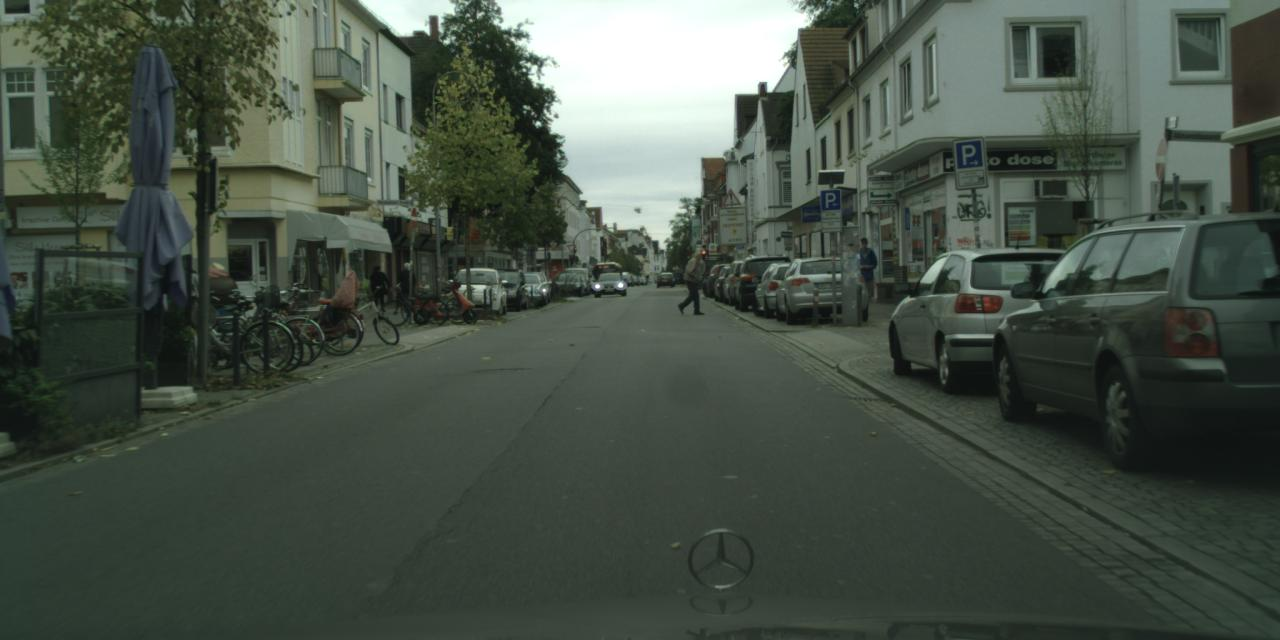ped: (849, 236, 878, 305), (681, 250, 707, 314), (397, 262, 417, 310), (369, 265, 386, 308), (645, 274, 647, 282)
